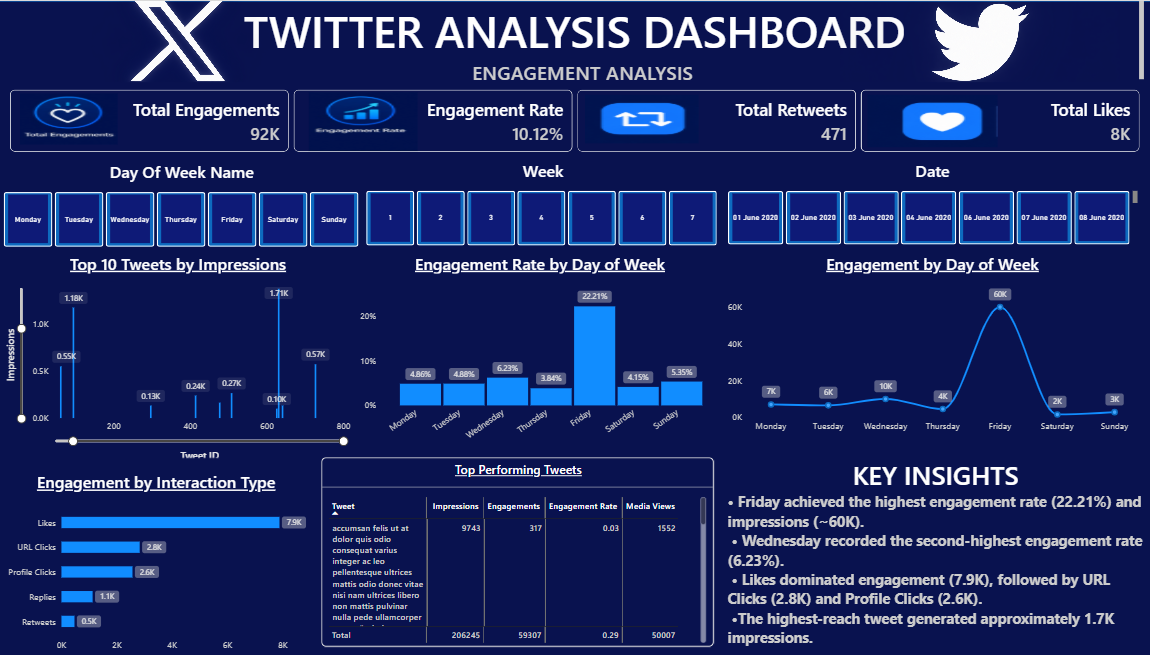

This screenshot's page, from the dashboard's own definition file:
{"tool":"powerbi","page":{"name":"Dashboard 2","canvas":[1920,1080],"ordinal":1},"visuals":[{"type":"shape","box":[10.9,0,1909.2,1080.4],"z":0},{"type":"textbox","box":[32.6,0,1867.6,133.9],"z":1000},{"type":"cardVisual","fields":{"Data":["Twitter Measure Table.Total Engagements","Twitter Measure Table.Engagement Rate","Twitter Measure Table.Total Retweets","Twitter Measure Table.Total Likes"]},"box":[32.9,146.1,1860.7,102.9],"z":2000},{"type":"image","box":[166.5,0,298.6,133.9],"z":3000},{"type":"image","box":[1398.9,0,461.5,133.9],"z":4000},{"type":"advancedSlicerVisual","title":"Day Of Week Name","fields":{"Values":["twitter_analysis_cleaned.day_of_week"]},"box":[22.6,263.5,586.6,142],"z":5000},{"type":"image","box":[1444.9,154.4,214.1,86.4],"z":6000},{"type":"image","box":[979.8,154.4,187.3,80.3],"z":7000},{"type":"image","box":[49.4,152.3,160.5,84.4],"z":8000},{"type":"image","box":[524.9,150.3,179.1,96.7],"z":10000},{"type":"clusteredColumnChart","title":"Top 10 Tweets by Impressions","fields":{"Category":["twitter_analysis_cleaned.Tweet ID"],"Y":["Twitter Measure Table.Total Impressions"]},"box":[24,414,570,338],"z":11000},{"type":"advancedSlicerVisual","title":"Week","fields":{"Values":["twitter_analysis_cleaned.DayOfWeekNumber"]},"box":[619.6,261.4,582.5,142],"z":12000},{"type":"advancedSlicerVisual","title":"Date","fields":{"Values":["twitter_analysis_cleaned.date"]},"box":[1214.4,261.4,675.1,140],"z":13000},{"type":"tableEx","title":"Top Performing Tweets","fields":{"Values":["twitter_analysis_cleaned.Tweet","Twitter Measure Table.Total Impressions","Twitter Measure Table.Total Engagements","Twitter Measure Table.Engagement Rate","Sum(twitter_analysis_cleaned.media views)"]},"box":[546,752,646,312],"z":14000},{"type":"clusteredBarChart","title":"Engagement by Interaction Type","fields":{"Category":["Engagement Type.Engagement Type"],"Y":["Engagement Type.Engagement Count"]},"box":[22,774,502,302],"z":15000},{"type":"lineChart","title":"Engagement by Day of Week","fields":{"Y":["Twitter Measure Table.Total Engagements"],"Category":["twitter_analysis_cleaned.day_of_week"]},"box":[1214.4,413.7,675.1,300.5],"z":16000},{"type":"clusteredColumnChart","title":"Engagement Rate by Day of Week","fields":{"Category":["twitter_analysis_cleaned.day_of_week"],"Y":["Twitter Measure Table.Engagement Rate"]},"box":[609.3,413.7,592.8,325.2],"z":17000},{"type":"textbox","box":[1214.4,751.3,685.4,325.2],"z":18000}]}

Visuals, with their boxes in screenshot pixels (x1, y1, x2, y2), scaled from the page's 1920x1080 canvas onto the 1150x655 screenshot:
shape: (x1=7, y1=0, x2=1149, y2=654)
textbox: (x1=20, y1=0, x2=1138, y2=81)
cardVisual - Twitter Measure Table.Total Engagements x Twitter Measure Table.Engagement Rate: (x1=20, y1=89, x2=1134, y2=151)
image: (x1=100, y1=0, x2=279, y2=81)
image: (x1=838, y1=0, x2=1114, y2=81)
"Day Of Week Name" advancedSlicerVisual: (x1=14, y1=160, x2=365, y2=246)
image: (x1=865, y1=94, x2=994, y2=146)
image: (x1=587, y1=94, x2=699, y2=142)
image: (x1=30, y1=92, x2=126, y2=144)
image: (x1=314, y1=91, x2=422, y2=150)
"Top 10 Tweets by Impressions" clusteredColumnChart: (x1=14, y1=251, x2=356, y2=456)
"Week" advancedSlicerVisual: (x1=371, y1=159, x2=720, y2=245)
"Date" advancedSlicerVisual: (x1=727, y1=159, x2=1132, y2=243)
"Top Performing Tweets" tableEx: (x1=327, y1=456, x2=714, y2=645)
"Engagement by Interaction Type" clusteredBarChart: (x1=13, y1=469, x2=314, y2=653)
"Engagement by Day of Week" lineChart: (x1=727, y1=251, x2=1132, y2=433)
"Engagement Rate by Day of Week" clusteredColumnChart: (x1=365, y1=251, x2=720, y2=448)
textbox: (x1=727, y1=456, x2=1138, y2=653)
